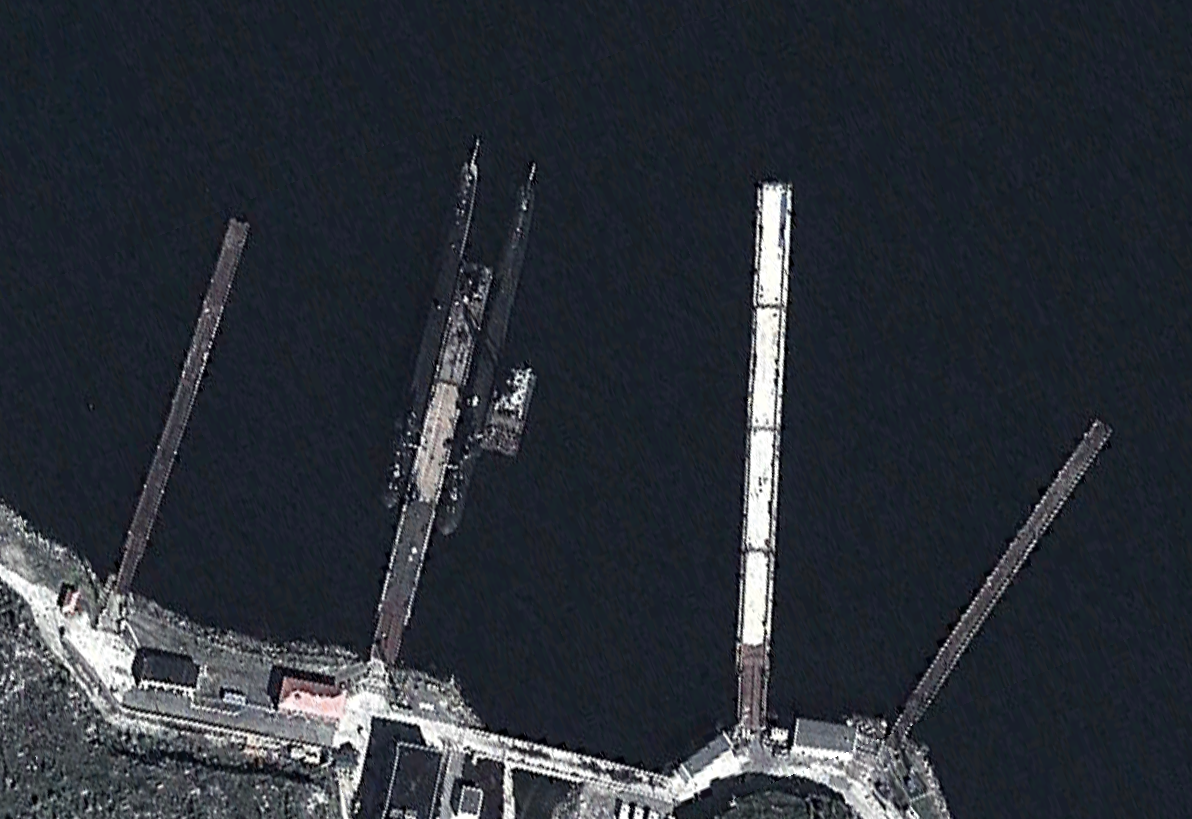submarine: (436, 154, 537, 538), (383, 134, 481, 512)
